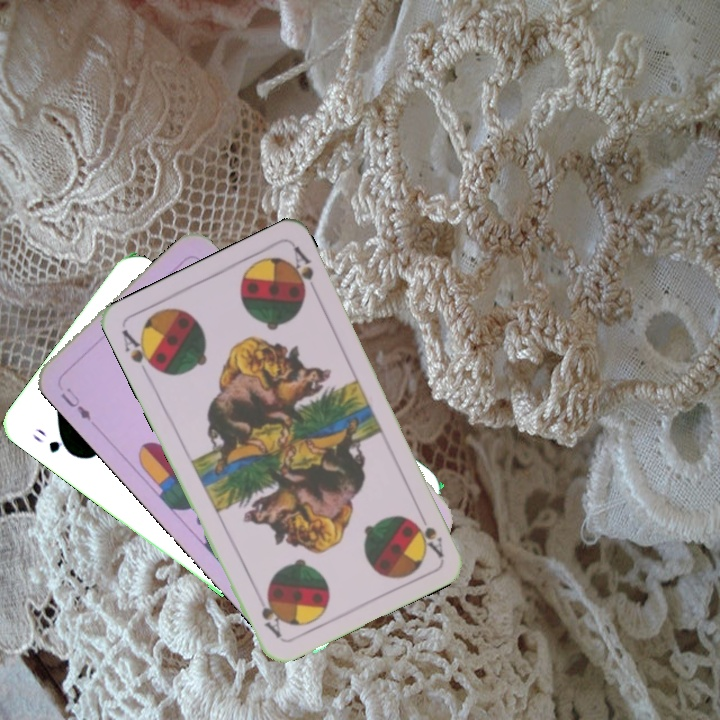EU: (56, 383, 94, 424)
GO: (29, 423, 78, 459)
SA: (118, 325, 161, 374), (412, 504, 446, 560)
